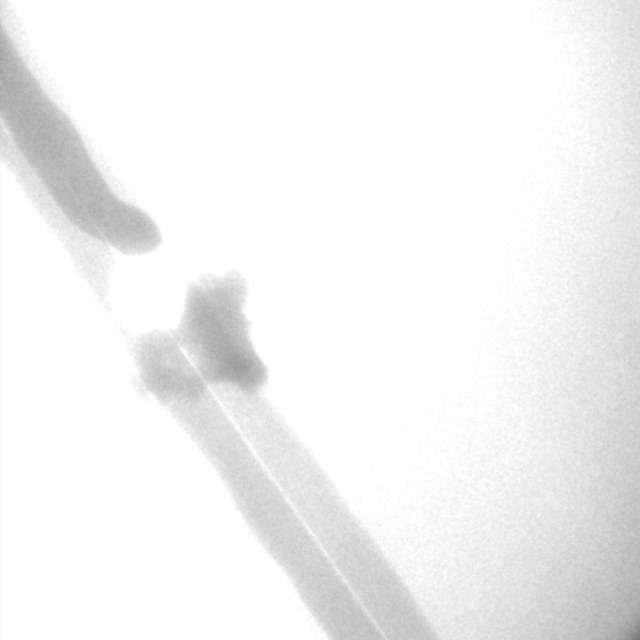broken arc: (106, 241, 386, 637)
